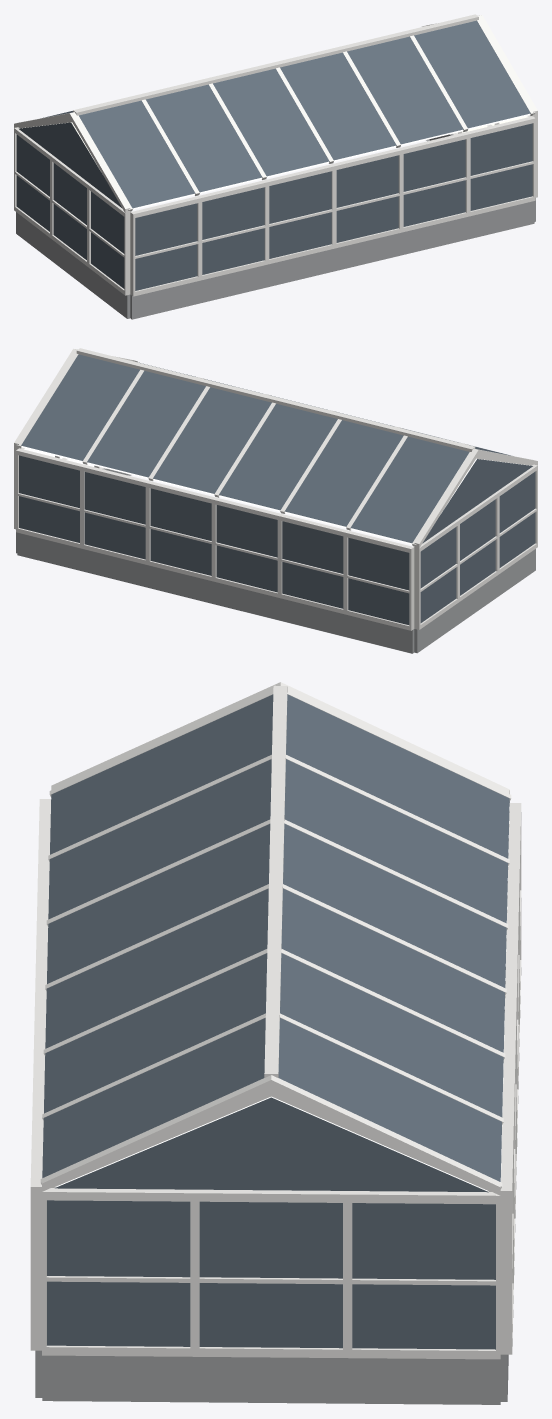
File: greenhouse.glb
3 views of the same model, one above another, from view 1: azimuth 30°, elevation 25°; view 2: azimuth 150°, elevation 25°; view 3: azimuth 270°, elevation 25° (orthographic). The views are drawn at different scales.
Parts seen in each view (by area): view 1: frame, plinth, window_glass_039, window_glass_041, window_glass_040, window_glass_044, window_glass_042, window_glass_043, window_glass_031, window_glass_008, window_glass_012, window_glass_004 (+15 smaller); view 2: frame, plinth, window_glass_045, window_glass_048, window_glass_046, window_glass_047, window_glass_049, window_glass_050, window_glass_031, window_glass_020, window_glass_022, window_glass_014 (+15 smaller); view 3: frame, plinth, window_glass_038, window_glass_049, window_glass_045, window_glass_047, window_glass_050, window_glass_046, window_glass_048, window_glass_040, window_glass_044, window_glass_042 (+9 smaller).
Part boxes in pixels (box(x1,y1,x2,y2)): frame: box(14, 14, 537, 296); plinth: box(16, 134, 535, 319); window_glass_039: box(79, 100, 195, 209); window_glass_041: box(213, 68, 329, 177); window_glass_040: box(146, 84, 262, 193); window_glass_044: box(414, 20, 530, 129); window_glass_042: box(280, 52, 396, 161); window_glass_043: box(347, 36, 463, 145); window_glass_031: box(19, 122, 121, 207); window_glass_008: box(336, 155, 398, 207); window_glass_012: box(470, 123, 532, 175); window_glass_004: box(202, 187, 264, 239); frame: box(14, 348, 537, 630); plinth: box(16, 468, 535, 653); window_glass_045: box(350, 436, 469, 544); window_glass_048: box(153, 387, 271, 495); window_glass_046: box(284, 420, 403, 528); window_glass_047: box(219, 403, 337, 511); window_glass_049: box(87, 371, 205, 478); window_glass_050: box(21, 354, 139, 462); window_glass_031: box(422, 458, 532, 543); window_glass_020: box(150, 488, 211, 540); window_glass_022: box(84, 472, 145, 524); window_glass_014: box(348, 537, 409, 590); frame: box(30, 682, 521, 1359); plinth: box(35, 967, 508, 1404); window_glass_038: box(55, 1096, 488, 1192); window_glass_049: box(280, 953, 503, 1117); window_glass_045: box(286, 694, 509, 858); window_glass_047: box(283, 823, 506, 987); window_glass_050: box(278, 1018, 501, 1181); window_glass_046: box(284, 759, 508, 923); window_glass_048: box(281, 888, 504, 1052); window_glass_040: box(48, 759, 271, 919); window_glass_044: box(42, 1018, 265, 1177); window_glass_042: box(45, 888, 268, 1048).
Bounding box in the file's own units: 8.16 × 3.09 × 4.21.
